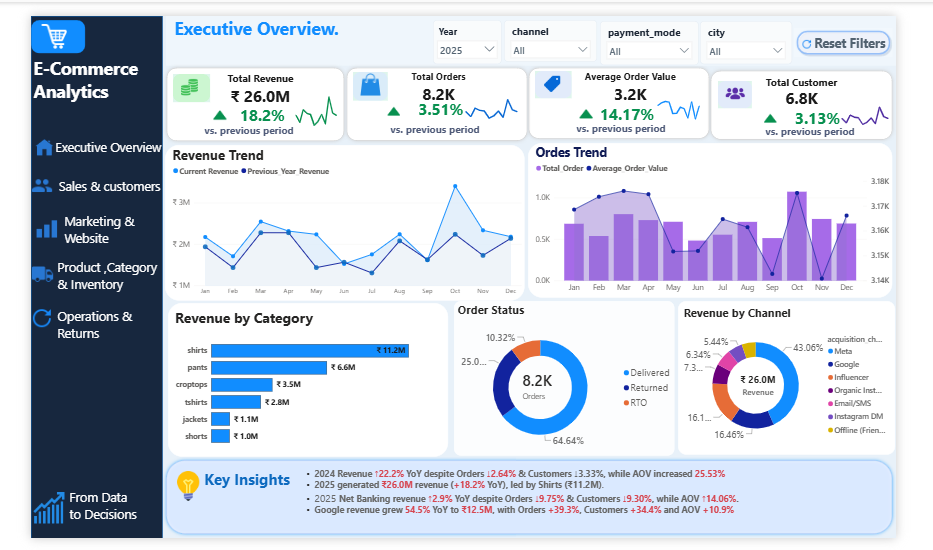

The dashboard page shown, as its layout file describes it:
{"tool":"powerbi","page":{"name":"Page 1","canvas":[1840,1110],"ordinal":0},"visuals":[{"type":"actionButton","box":[1622.4,26.5,210.3,62.1],"z":0,"group":"g7"},{"type":"shape","box":[281,102.1,393.3,171.8],"z":0,"group":"g2"},{"type":"shape","box":[664.1,102.7,400,171.1],"z":0,"group":"g3"},{"type":"shape","box":[1051.4,103.2,400,166.7],"z":0,"group":"g1"},{"type":"shape","box":[1437.8,107.8,402.2,162.2],"z":0,"group":"g4"},{"type":"donutChart","title":"Order Status","fields":{"Y":["Dax_Measure.Total_Order"],"Category":["public order_clean.delivered_returned_rto"]},"box":[899.4,606.9,468.9,328.9],"z":0,"group":"g6"},{"type":"donutChart","title":"Revenue by Channel","fields":{"Category":["public customers_clean.acquisition_channel"],"Y":["Dax_Measure.Total_Revenue"]},"box":[1376.9,607.3,462.2,326.7],"z":0,"group":"g5"},{"type":"shape","box":[280.4,939.2,1558.8,170.6],"z":0},{"type":"shape","box":[0,0,280,1500],"z":1000},{"type":"image","box":[1625.8,48.9,46.6,22.4],"z":1000,"group":"g7"},{"type":"cardVisual","title":"Average Order Value","fields":{"Data":["Dax_Measure.Average_Order_Value"]},"box":[1166.7,116,218.4,146.7],"z":1000,"group":"g1"},{"type":"cardVisual","title":"Total Orders","fields":{"Data":["Dax_Measure.Total_Order"]},"box":[760.7,116.5,215.6,151.1],"z":1000,"group":"g3"},{"type":"cardVisual","title":"Total Revenue","fields":{"Data":["Dax_Measure.Total_Revenue"]},"box":[389.1,117.9,197.8,149.4],"z":1000,"group":"g2"},{"type":"cardVisual","title":"Total Customer","fields":{"Data":["Dax_Measure.Total Customers"]},"box":[1521,124.9,236.3,135.4],"z":1000,"group":"g4"},{"type":"cardVisual","fields":{"Data":["Dax_Measure.Total_Order"]},"box":[1025.2,704.4,119.7,162.8],"z":1000,"group":"g6"},{"type":"cardVisual","fields":{"Data":["Dax_Measure.Total_Revenue"]},"box":[1468,741,158.1,90.5],"z":1000,"group":"g5"},{"type":"group","id":"g1","title":"Averaage Order Value","box":[1051.4,103.2,400,166.7],"z":2000},{"type":"shape","box":[1072.5,118.8,77.9,57.7],"z":2000,"group":"g1"},{"type":"shape","box":[684.7,120.4,73.9,61],"z":2000,"group":"g3"},{"type":"shape","box":[302.7,123.1,79.1,59.8],"z":2000,"group":"g2"},{"type":"shape","box":[1461.9,137,72.4,57.8],"z":2000,"group":"g4"},{"type":"shape","box":[286.5,0,1584.6,105.8],"z":3000},{"type":"image","box":[301.3,124.3,74.6,51.1],"z":3000,"group":"g2"},{"type":"cardVisual","fields":{"Data":["Dax_Measure.Order_Growth"]},"box":[753.5,162.8,195.6,66.7],"z":3000,"group":"g3"},{"type":"cardVisual","fields":{"Data":["Dax_Measure.AOV YOY Growth %"]},"box":[1166.7,167.2,188.9,80],"z":3000,"group":"g1"},{"type":"cardVisual","fields":{"Data":["Dax_Measure.Customer YOY Growth %"]},"box":[1560.5,179.4,188.9,68.9],"z":3000,"group":"g4"},{"type":"textbox","box":[286.5,0,1580.8,107.7],"z":4000},{"type":"lineChart","fields":{"Y":["Dax_Measure.Average_Order_Value"],"Category":["Dim_Date.Year Month"]},"box":[1320.4,165.1,117.3,61.9],"z":4000,"group":"g1"},{"type":"cardVisual","fields":{"Data":["Dax_Measure.Revenue Growth %"]},"box":[391.7,171.3,178,71.9],"z":4000,"group":"g2"},{"type":"image","box":[732.1,182.7,80,40],"z":4000,"group":"g3"},{"type":"image","box":[1548.9,196.7,48.9,40],"z":4000,"group":"g4"},{"type":"image","box":[1078.1,127.6,60,37.8],"z":5000,"group":"g1"},{"type":"lineChart","fields":{"Y":["Dax_Measure.Total Customers"],"Category":["Dim_Date.Year Month"]},"box":[1710.5,168.6,127.5,71.4],"z":5000,"group":"g4"},{"type":"image","box":[367,189.5,72,42.7],"z":5000,"group":"g2"},{"type":"textbox","box":[760.7,220.9,213.3,46.7],"z":5000,"group":"g3"},{"type":"image","box":[3.9,1011.8,66.7,66.7],"z":5000},{"type":"image","box":[1468.8,138.7,56.9,46.2],"z":6000,"group":"g4"},{"type":"lineChart","fields":{"Y":["Dax_Measure.Total_Order"],"Category":["Dim_Date.Year Month"]},"box":[910.9,154.9,138.4,73.5],"z":6000,"group":"g3"},{"type":"image","box":[1151.4,187.6,60,42.2],"z":6000,"group":"g1"},{"type":"textbox","box":[364.8,223.3,211.1,64.4],"z":6000,"group":"g2"},{"type":"textbox","box":[76.5,1000,196.1,92.2],"z":6000},{"type":"group","id":"g2","title":"Total-Revenue KPI","box":[281,102.1,393.3,186.7],"z":7000},{"type":"lineChart","fields":{"Category":["Dim_Date.Year Month"],"Y":["Dax_Measure.Total_Revenue"]},"box":[548.4,154.9,115.6,83.6],"z":7000,"group":"g2"},{"type":"textbox","box":[1155.6,220.5,206.7,42.2],"z":7000,"group":"g1"},{"type":"textbox","box":[1556.1,225.3,215.6,37.8],"z":7000,"group":"g4"},{"type":"group","id":"g3","title":"Total-Orders KPI","box":[664.1,102.7,400,171.1],"z":8000},{"type":"image","box":[686.5,121.2,69.2,48.1],"z":9000},{"type":"group","id":"g4","title":"Total customers KPI","box":[1437.8,107.8,402.2,162.2],"z":10000},{"type":"clusteredBarChart","title":"Revenue by Category","fields":{"Category":["public clean_fashionorder.category"],"Y":["Dax_Measure.Category_Revenue"]},"box":[292.2,609.8,596.1,327.5],"z":12000},{"type":"group","id":"g5","title":"Group 1","box":[1376.9,607.3,462.2,326.7],"z":13000},{"type":"group","id":"g6","title":"Group 2","box":[899.4,606.9,468.9,328.9],"z":14000},{"type":"lineChart","title":"Revenue Trend","fields":{"Category":["Dim_Date.Month"],"Y":["Dax_Measure.Total_Revenue","Dax_Measure.Previous_Year_Revenue"]},"box":[285.7,273.5,765.3,330.6],"z":15000},{"type":"slicer","fields":{"Values":["public order_clean.channel_source_last_touch"]},"box":[1006.7,8.9,197.8,88.9],"z":16000},{"type":"slicer","fields":{"Values":["public order_clean.payment_mode"]},"box":[1209.8,9.8,209.8,94.1],"z":17000},{"type":"slicer","fields":{"Values":["public customers_clean.city"]},"box":[1423.5,9.8,196.1,92.2],"z":18000},{"type":"slicer","fields":{"Values":["Dim_Date.Year"]},"box":[855.8,7.7,146.2,94.2],"z":19000},{"type":"group","id":"g7","title":"Reset Button","box":[1622.4,26.5,210.2,61.2],"z":20000},{"type":"image","box":[292.2,962.7,86,76],"z":21000},{"type":"textbox","box":[364.7,952.9,243.1,76.5],"z":22000},{"type":"textbox","box":[0,80,280,108.9],"z":23000},{"type":"shape","box":[0,8.9,115.6,71.1],"z":24000},{"type":"image","box":[8.9,17.8,82.2,53.3],"z":25000},{"type":"image","box":[0,261.2,57.1,36.7],"z":26000},{"type":"image","box":[0,322.4,46.9,75.5],"z":27000},{"type":"image","box":[2.1,510.6,44.7,66],"z":28000},{"type":"image","box":[0,424.5,65.3,55.1],"z":29000},{"type":"image","box":[0,616,46,52],"z":30000},{"type":"textbox","box":[46.9,255.1,255.1,83.7],"z":31000},{"type":"textbox","box":[46.9,338.8,234.7,59.2],"z":32000},{"type":"textbox","box":[65.3,412.2,216.3,81.6],"z":33000},{"type":"textbox","box":[51.1,510.6,231.9,87.2],"z":34000},{"type":"textbox","box":[50,614,228,96],"z":35000},{"type":"textbox","box":[570.6,939.2,1266.7,170.6],"z":36000},{"type":"lineClusteredColumnComboChart","title":"Ordes Trend","fields":{"Category":["Dim_Date.Month"],"Y":["Dax_Measure.Total_Order"],"Y2":["Dax_Measure.Average_Order_Value"]},"box":[1057.1,269.6,775,328.6],"z":38000}]}

Visuals, with their boxes in screenshot pixels (x1, y1, x2, y2), scaled from the page's 1840x1110 canvas onto the 933x550 screenshot:
actionButton: box=[823, 13, 929, 44]
shape: box=[142, 51, 342, 136]
shape: box=[337, 51, 540, 136]
shape: box=[533, 51, 736, 134]
shape: box=[729, 53, 932, 134]
"Order Status" donutChart: box=[456, 301, 694, 464]
"Revenue by Channel" donutChart: box=[698, 301, 932, 463]
shape: box=[142, 465, 932, 549]
shape: box=[0, 0, 142, 549]
image: box=[824, 24, 848, 35]
"Average Order Value" cardVisual: box=[592, 57, 702, 130]
"Total Orders" cardVisual: box=[386, 58, 495, 133]
"Total Revenue" cardVisual: box=[197, 58, 298, 132]
"Total Customer" cardVisual: box=[771, 62, 891, 129]
cardVisual - Dax_Measure.Total_Order: box=[520, 349, 581, 430]
cardVisual - Dax_Measure.Total_Revenue: box=[744, 367, 825, 412]
"Averaage Order Value" group: box=[533, 51, 736, 134]
shape: box=[544, 59, 583, 87]
shape: box=[347, 60, 385, 90]
shape: box=[153, 61, 194, 91]
shape: box=[741, 68, 778, 97]
shape: box=[145, 0, 932, 52]
image: box=[153, 62, 191, 87]
cardVisual - Dax_Measure.Order_Growth: box=[382, 81, 481, 114]
cardVisual - Dax_Measure.AOV YOY Growth %: box=[592, 83, 687, 122]
cardVisual - Dax_Measure.Customer YOY Growth %: box=[791, 89, 887, 123]
textbox: box=[145, 0, 932, 53]
lineChart - Dax_Measure.Average_Order_Value x Dim_Date.Year Month: box=[670, 82, 729, 112]
cardVisual - Dax_Measure.Revenue Growth %: box=[199, 85, 289, 121]
image: box=[371, 91, 412, 110]
image: box=[785, 97, 810, 117]
image: box=[547, 63, 577, 82]
lineChart - Dax_Measure.Total Customers x Dim_Date.Year Month: box=[867, 84, 932, 119]
image: box=[186, 94, 223, 115]
textbox: box=[386, 109, 494, 133]
image: box=[2, 501, 36, 534]
image: box=[745, 69, 774, 92]
lineChart - Dax_Measure.Total_Order x Dim_Date.Year Month: box=[462, 77, 532, 113]
image: box=[584, 93, 614, 114]
textbox: box=[185, 111, 292, 143]
textbox: box=[39, 495, 138, 541]
"Total-Revenue KPI" group: box=[142, 51, 342, 143]
lineChart - Dim_Date.Year Month x Dax_Measure.Total_Revenue: box=[278, 77, 337, 118]
textbox: box=[586, 109, 691, 130]
textbox: box=[789, 112, 898, 130]
"Total-Orders KPI" group: box=[337, 51, 540, 136]
image: box=[348, 60, 383, 84]
"Total customers KPI" group: box=[729, 53, 932, 134]
"Revenue by Category" clusteredBarChart: box=[148, 302, 450, 464]
"Group 1" group: box=[698, 301, 932, 463]
"Group 2" group: box=[456, 301, 694, 464]
"Revenue Trend" lineChart: box=[145, 136, 533, 299]
slicer - public order_clean.channel_source_last_touch: box=[510, 4, 611, 48]
slicer - public order_clean.payment_mode: box=[613, 5, 720, 51]
slicer - public customers_clean.city: box=[722, 5, 821, 51]
slicer - Dim_Date.Year: box=[434, 4, 508, 50]
"Reset Button" group: box=[823, 13, 929, 43]
image: box=[148, 477, 192, 515]
textbox: box=[185, 472, 308, 510]
textbox: box=[0, 40, 142, 94]
shape: box=[0, 4, 59, 40]
image: box=[5, 9, 46, 35]
image: box=[0, 129, 29, 148]
image: box=[0, 160, 24, 197]
image: box=[1, 253, 24, 286]
image: box=[0, 210, 33, 238]
image: box=[0, 305, 23, 331]
textbox: box=[24, 126, 153, 168]
textbox: box=[24, 168, 143, 197]
textbox: box=[33, 204, 143, 245]
textbox: box=[26, 253, 143, 296]
textbox: box=[25, 304, 141, 352]
textbox: box=[289, 465, 932, 549]
"Ordes Trend" lineClusteredColumnComboChart: box=[536, 134, 929, 296]
